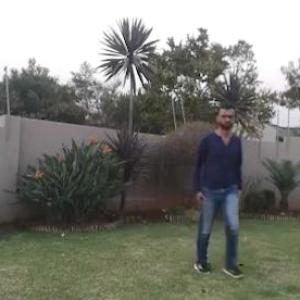follow: (198, 102, 242, 258)
